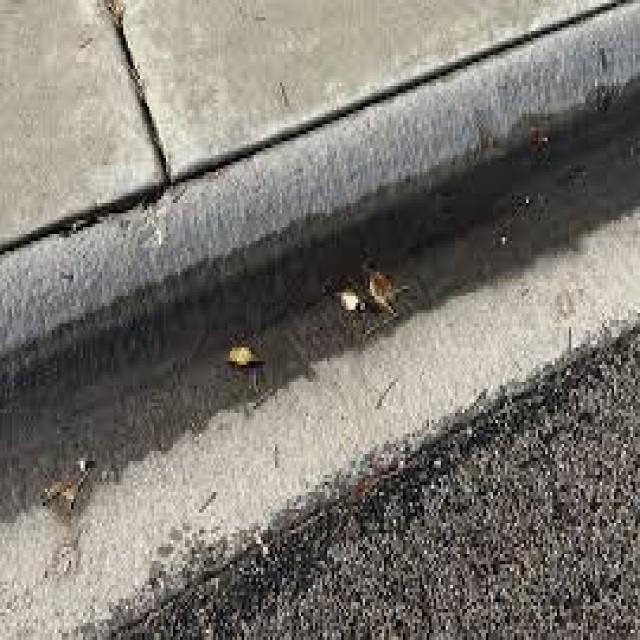curb: (4, 9, 638, 461)
